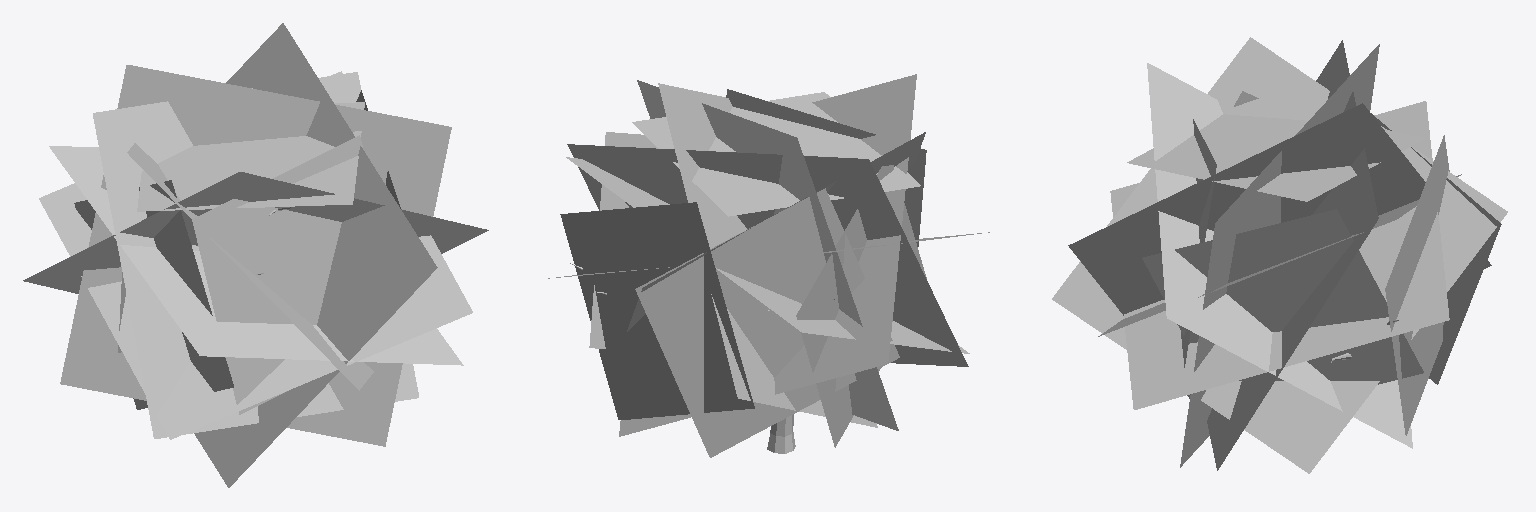
The model's file is game_oaktree1.obj.
3 views of the same model, side by side, from view 1: azimuth 30°, elevation 25°; view 2: azimuth 150°, elevation 25°; view 3: azimuth 270°, elevation 25° (orthographic).
Visible parts, largest first — view 1: Plane; view 2: Plane; view 3: Plane.
Part boxes in pixels (x1,y1,x2,y2): Plane: (23,23,488,487); Plane: (548,74,989,457); Plane: (1052,37,1507,473).
Size of the model in its own units: 29.38 by 29.57 by 32.84.